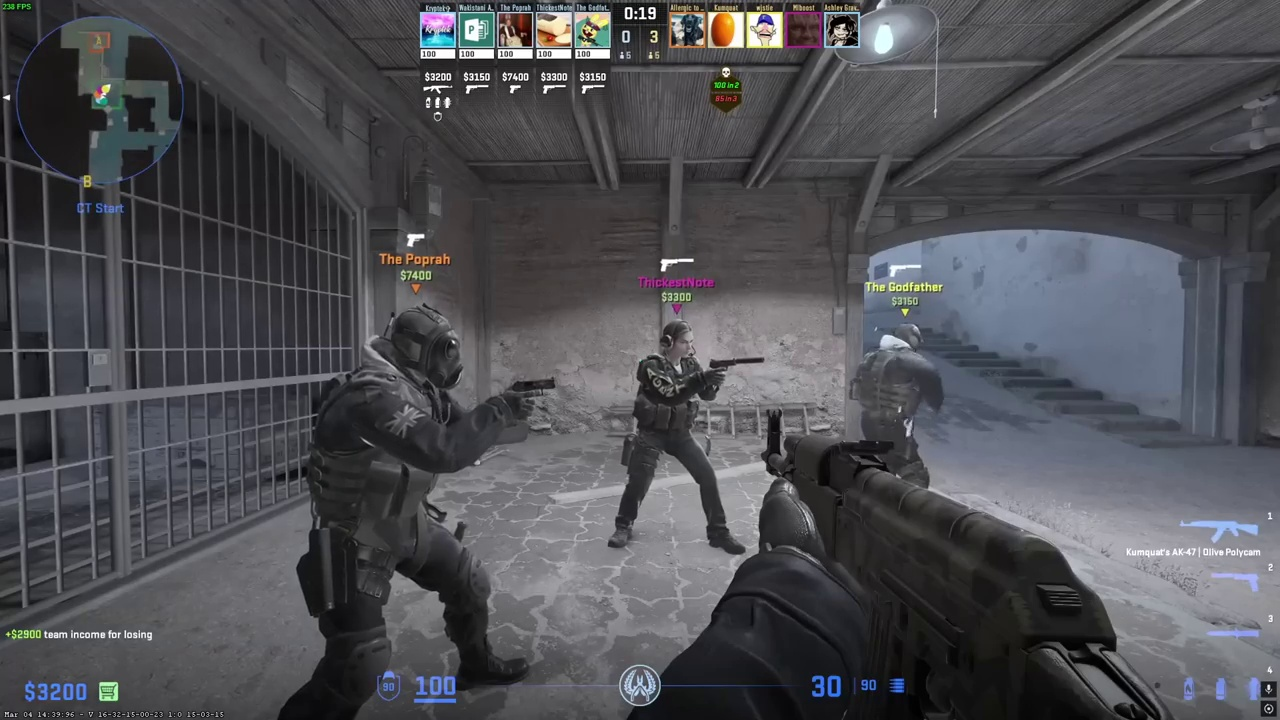CT: (303, 305, 508, 687), (610, 320, 745, 550), (856, 323, 937, 487)
